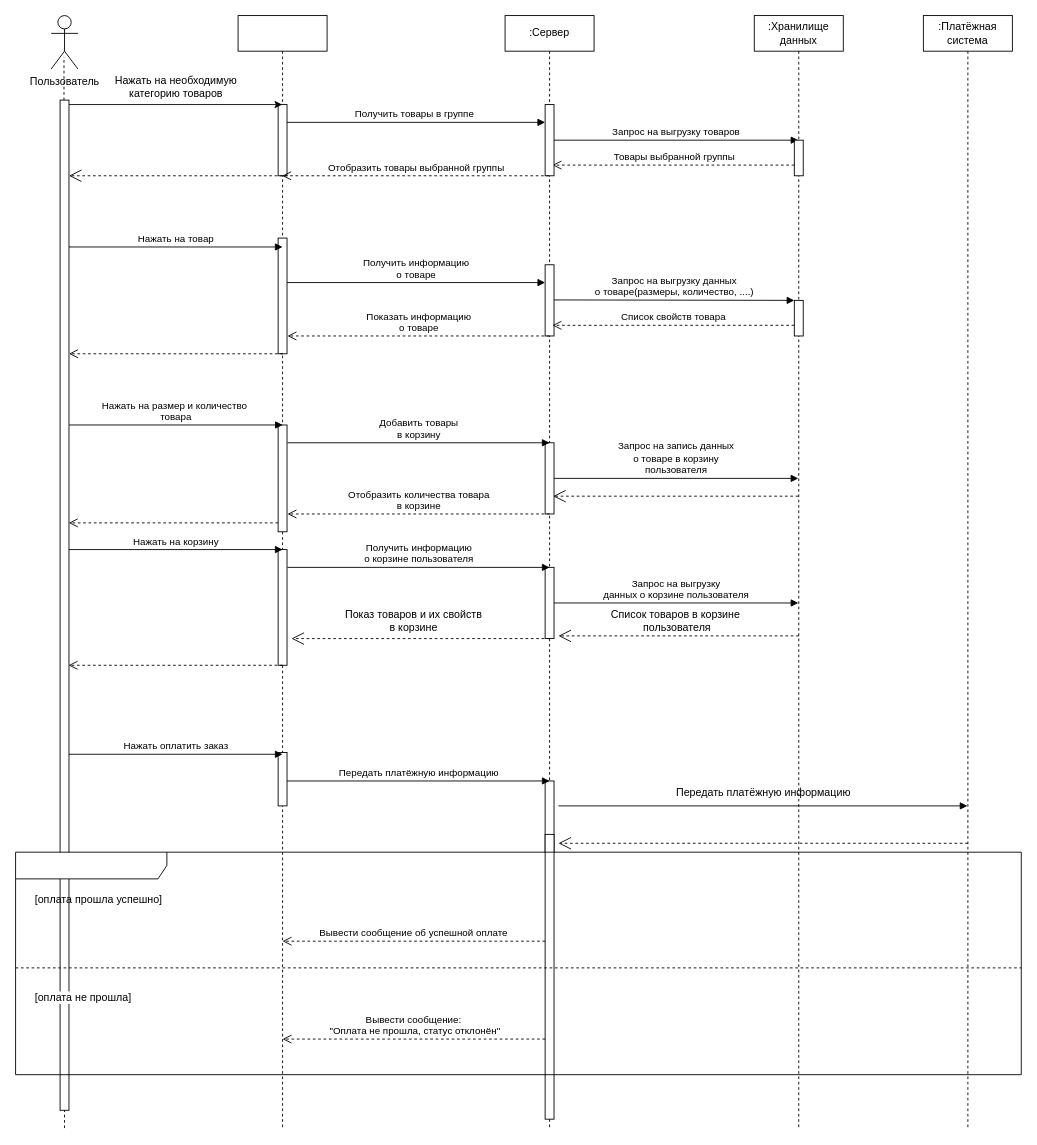
Image size: 1037x1145. Some labels were removed from this diagram. The shapes that lost their labels are listed below. From the top down, each one's centre as x and y in pixels, then its label:
point (282, 571): :GUI
point (518, 963): alt
